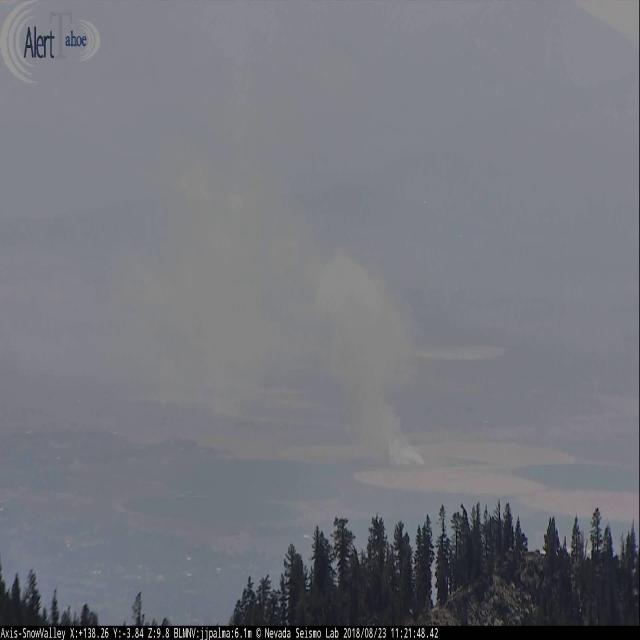smoke: (0, 111, 428, 465)
